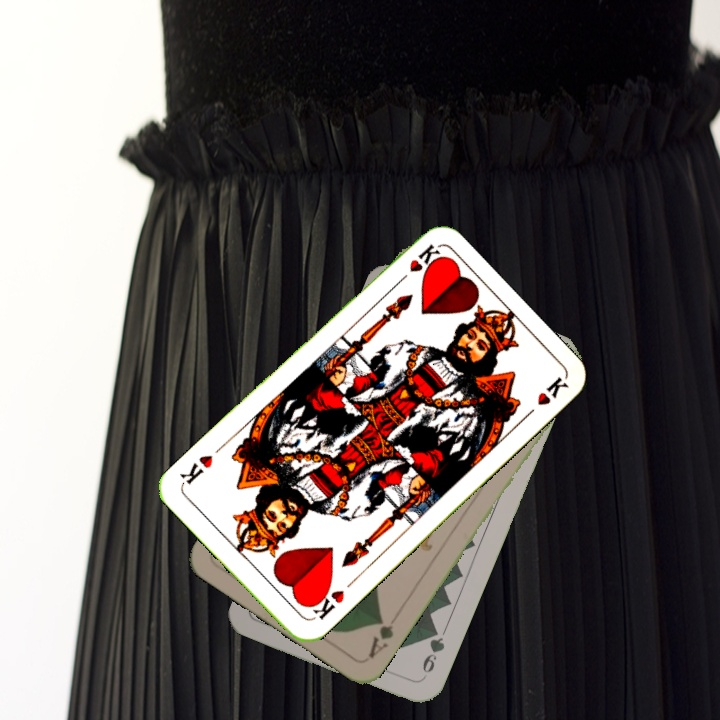G9: (417, 623, 448, 683)
GA: (364, 610, 402, 661)
HK: (391, 240, 442, 289), (304, 582, 348, 623)
